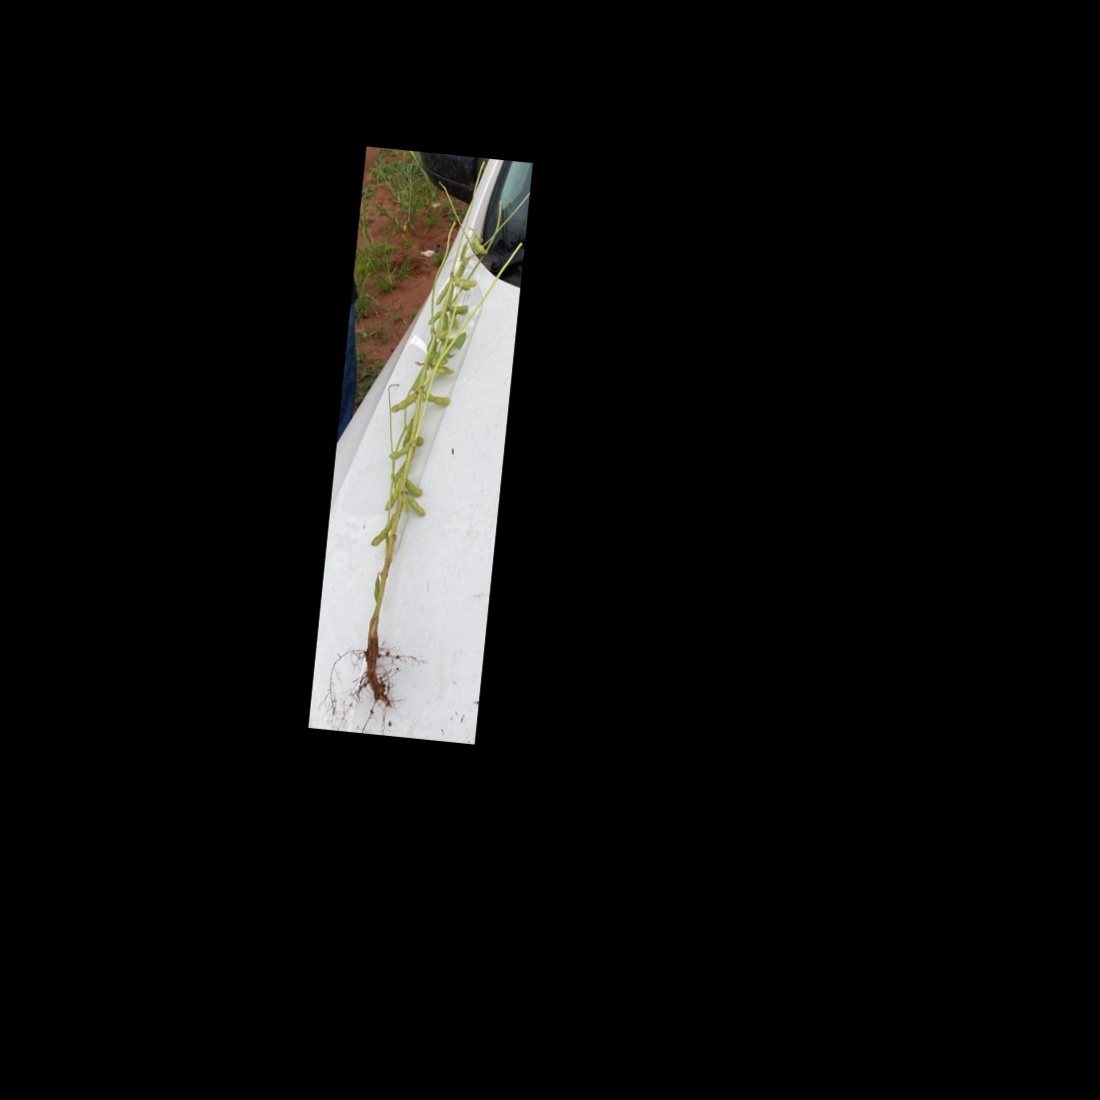pod: (364, 510, 394, 550), (387, 384, 420, 419), (404, 493, 429, 519), (387, 439, 410, 464), (425, 390, 452, 408), (402, 476, 424, 498), (370, 573, 382, 603)
soy: (352, 182, 494, 705)
